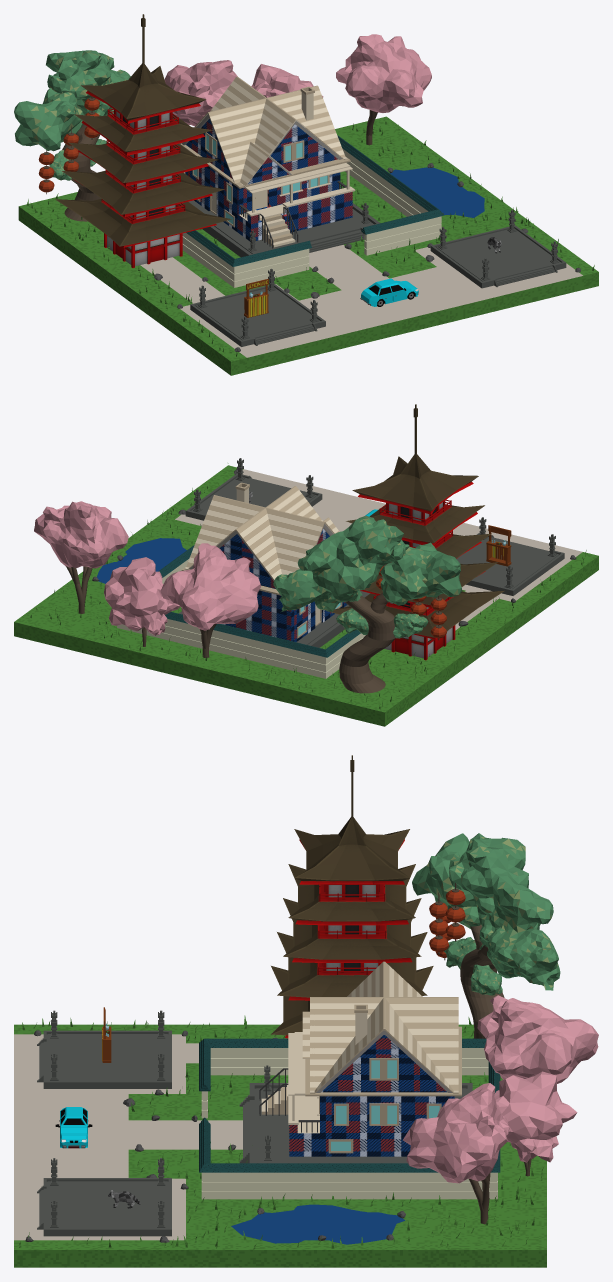
The picture shows the model from 3 angles, top to bottom: view 1: azimuth 30°, elevation 25°; view 2: azimuth 150°, elevation 25°; view 3: azimuth 270°, elevation 25°; orthographic projection. The views are drawn at different scales.
Visible parts, largest first — view 1: Cube.005, Cube.171, VEHICLES_CAR, OBJRANDOM_LEMONADE_STAND; view 2: Cube.005, Cube.171, OBJRANDOM_LEMONADE_STAND; view 3: Cube.005, Cube.171, VEHICLES_CAR.
Part boxes in pixels (x1,y1,x2,y2): Cube.005: (14, 14, 598, 375); Cube.171: (179, 76, 355, 248); VEHICLES_CAR: (360, 278, 418, 306); OBJRANDOM_LEMONADE_STAND: (244, 278, 268, 317); Cube.005: (14, 404, 598, 726); Cube.171: (181, 482, 347, 641); OBJRANDOM_LEMONADE_STAND: (486, 525, 511, 566); Cube.005: (14, 755, 598, 1267); Cube.171: (259, 961, 461, 1156); VEHICLES_CAR: (55, 1107, 92, 1148).
Size of the model in its own units: 4528 by 2698 by 4389.
41 materials, 6 textured.
